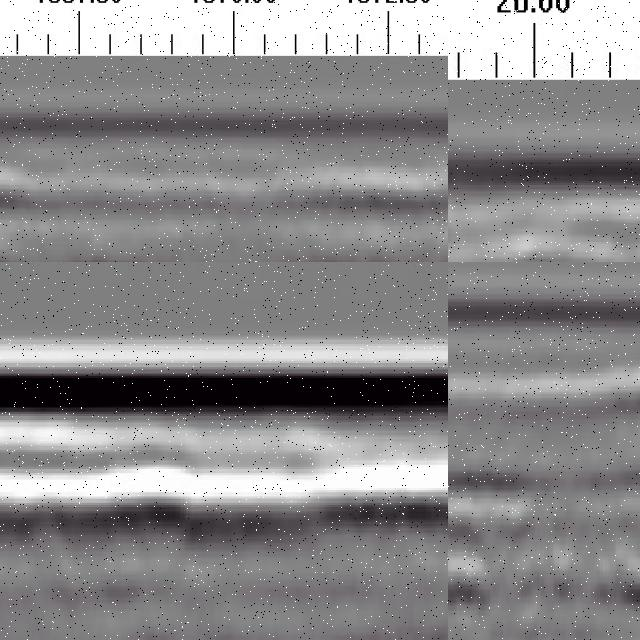loose: (449, 461, 577, 640)
